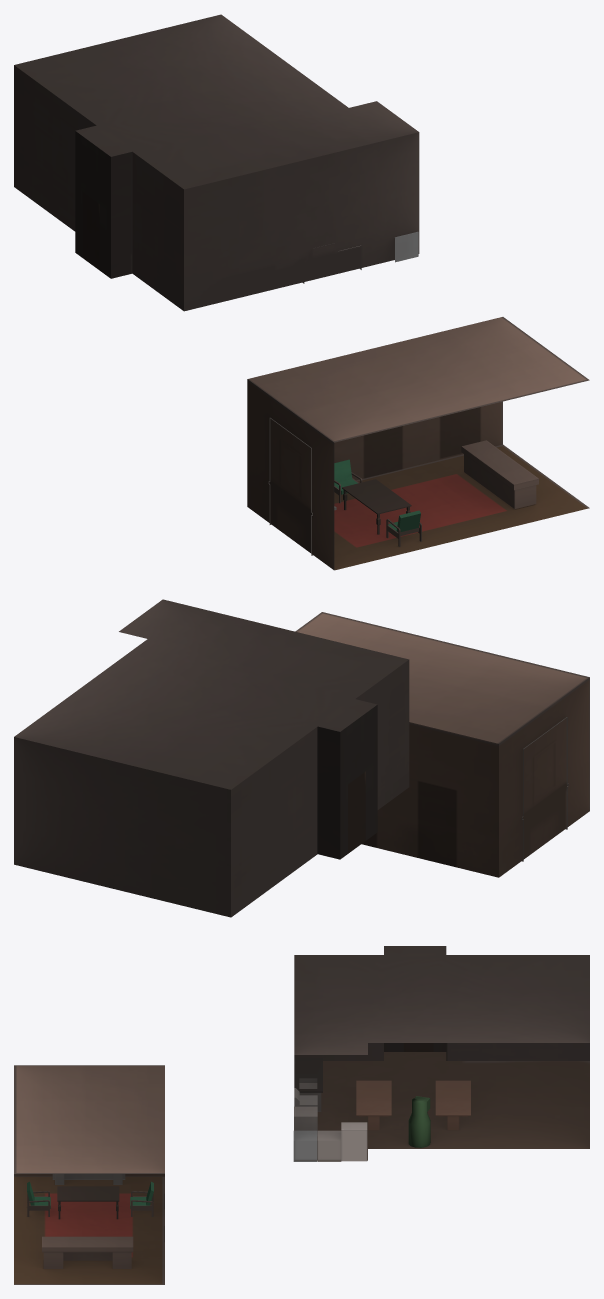
The model's file is harveyHallRooms1950s.fbx.
3 views of the same model, one above another, from view 1: azimuth 30°, elevation 25°; view 2: azimuth 150°, elevation 25°; view 3: azimuth 270°, elevation 25° (orthographic). The views are drawn at different scales.
Parts seen in each view (by area): view 1: pCube1, presidentsRoom, presRoomLowPoly:pCube369, presRoomLowPoly:pCube367, pCube368; view 2: pCube1, presidentsRoom; view 3: pCube1, presidentsRoom, presRoomLowPoly:pCube369, textileRoomLowPoly:pCube212, pCube212, textileRoomLowPoly:pCube217, presRoomLowPoly:pCube367, textileRoomLowPoly:pCube214, textileRoomLowPoly:pCylinder94, pCube217, pCube218, pCube219 (+3 smaller).
Part boxes in pixels (<box>): pCube1: <box>14,14,419,311</box>; presidentsRoom: <box>247,317,589,570</box>; presRoomLowPoly:pCube369: <box>461,440,538,508</box>; presRoomLowPoly:pCube367: <box>342,479,411,534</box>; pCube368: <box>386,510,421,546</box>; pCube1: <box>14,599,409,917</box>; presidentsRoom: <box>295,612,589,877</box>; pCube1: <box>294,946,589,1160</box>; presidentsRoom: <box>14,1065,164,1284</box>; presRoomLowPoly:pCube369: <box>42,1236,133,1268</box>; textileRoomLowPoly:pCube212: <box>435,1080,470,1130</box>; pCube212: <box>356,1080,391,1130</box>; textileRoomLowPoly:pCube217: <box>294,1057,322,1111</box>; presRoomLowPoly:pCube367: <box>57,1186,119,1219</box>; textileRoomLowPoly:pCube214: <box>341,1122,367,1161</box>; textileRoomLowPoly:pCylinder94: <box>408,1096,430,1147</box>; pCube217: <box>293,1130,317,1161</box>; pCube218: <box>317,1130,341,1161</box>; pCube219: <box>294,1106,317,1135</box>.
Bounding box in the file's own units: 11.48 × 10.79 × 24.78.
